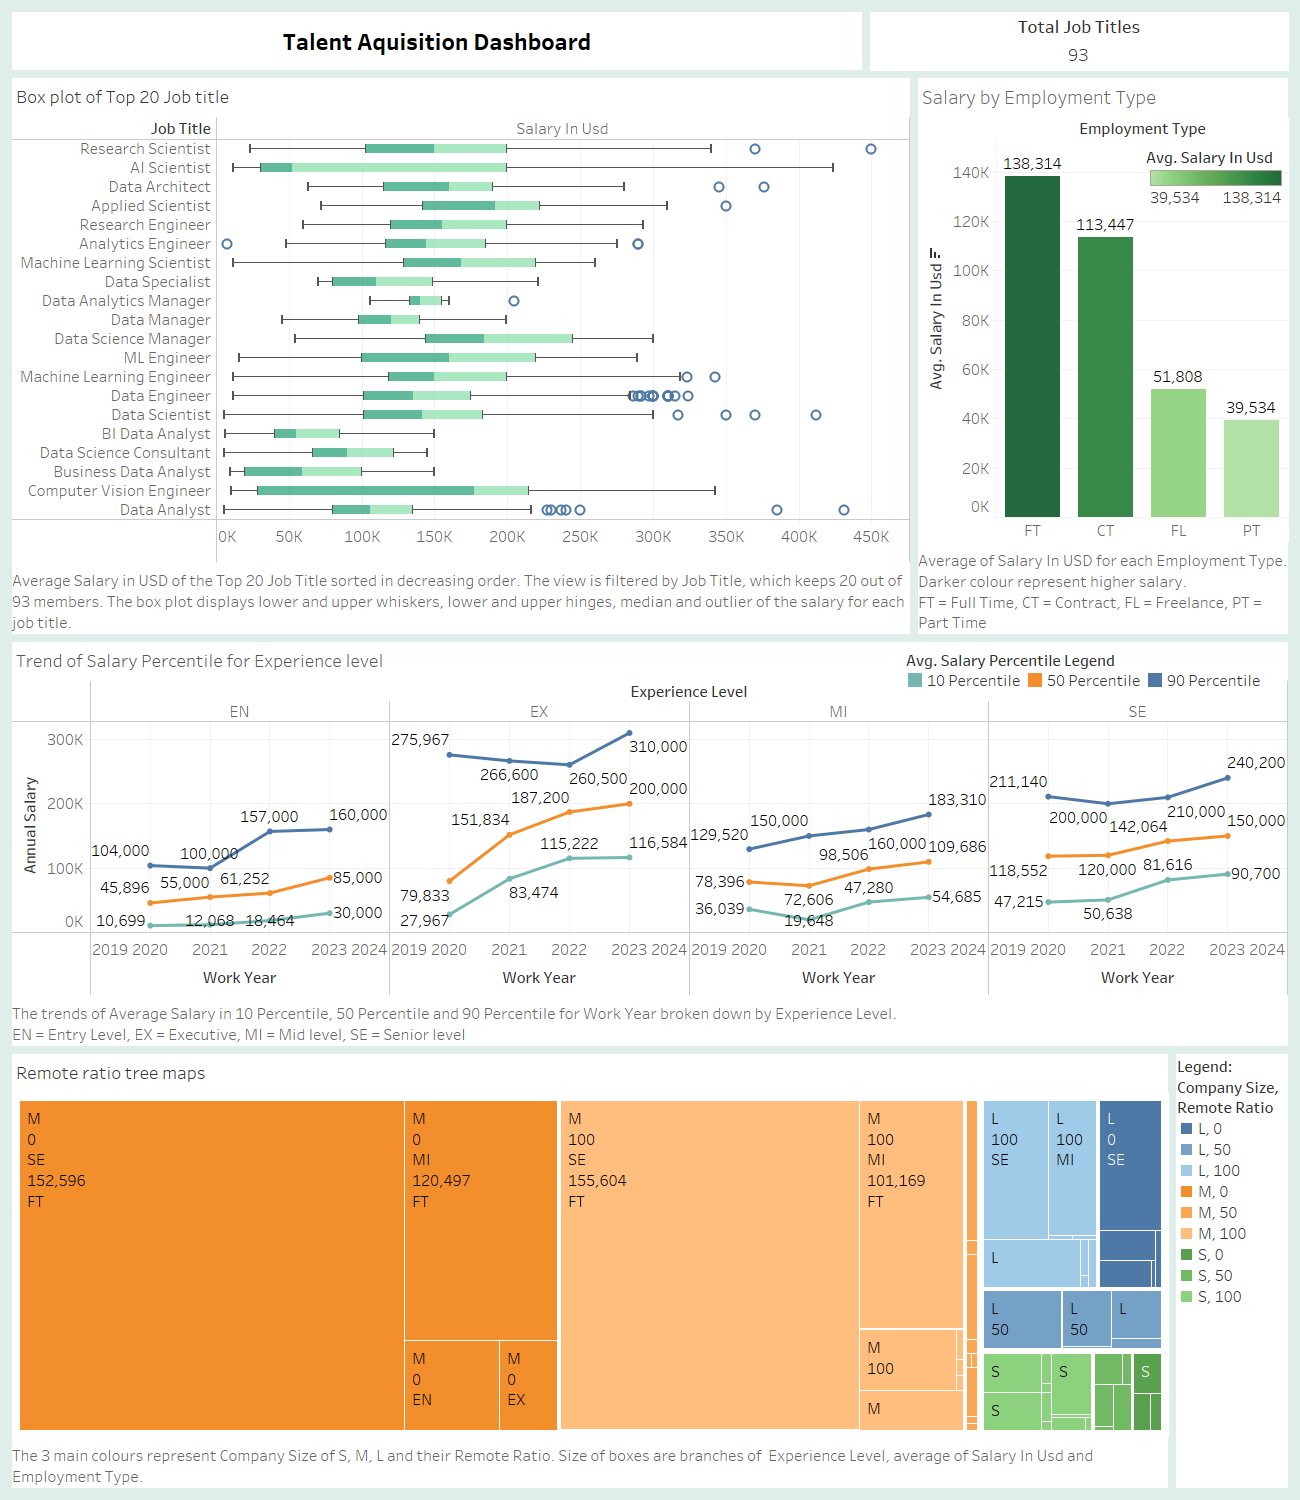

What the dashboard file says about the page in this screenshot:
{"tool":"tableau","page":{"name":"Recruiter","canvas":[1300,1500],"ordinal":4},"visuals":[{"type":"text","box":[8,8,858,66]},{"type":"worksheet","title":"Distinct Job titles","mark":"Automatic","box":[866,8,426,66]},{"type":"worksheet","title":"Box plot","mark":"Shape","rows":["job_title"],"cols":["salary_in_usd"],"box":[8,74,906,564]},{"type":"worksheet","title":"employment type salary","mark":"Automatic","rows":["salary_in_usd"],"cols":["employment_type"],"box":[914,74,378,564]},{"type":"legend","title":"employment type salary","param":"[federated.1ubzi4w18pd77j1g8wl2v0i1bgqj].[avg:salary_in_usd:qk]","box":[1146,143,140,88]},{"type":"worksheet","title":"Trend of Salary Percentile for Experience level","mark":"Line","cols":["experience_level","work_year"],"box":[8,638,1284,412]},{"type":"legend","title":"Trend of Salary Percentile for Experience level","param":"[federated.1ubzi4w18pd77j1g8wl2v0i1bgqj].[:Measure Names]","box":[905,648,378,44]},{"type":"worksheet","title":"Remote ratio tree maps","mark":"Automatic","box":[8,1050,1164,442]},{"type":"legend","title":"Remote ratio tree maps","param":"[federated.1ubzi4w18pd77j1g8wl2v0i1bgqj].[none:company_size:nk]\n[federated.1ubzi","box":[1172,1050,120,442]}]}

Visuals, with their boxes in screenshot pixels (x1, y1, x2, y2), scaled from the page's 1300x1500 canvas onto the 1300x1500 screenshot:
text: box(8, 8, 866, 74)
"Distinct Job titles" worksheet: box(866, 8, 1292, 74)
"Box plot" worksheet (Shape marks): box(8, 74, 914, 638)
"employment type salary" worksheet: box(914, 74, 1292, 638)
"employment type salary" legend: box(1146, 143, 1286, 231)
"Trend of Salary Percentile for Experience level" worksheet (Line marks): box(8, 638, 1292, 1050)
"Trend of Salary Percentile for Experience level" legend: box(905, 648, 1283, 692)
"Remote ratio tree maps" worksheet: box(8, 1050, 1172, 1492)
"Remote ratio tree maps" legend: box(1172, 1050, 1292, 1492)
